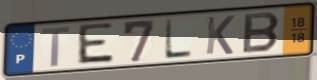7: (122, 19, 157, 64)
B: (240, 11, 283, 55)
E: (75, 21, 117, 66)
K: (204, 14, 237, 56)
L: (162, 17, 195, 61)
T: (40, 25, 72, 69)
